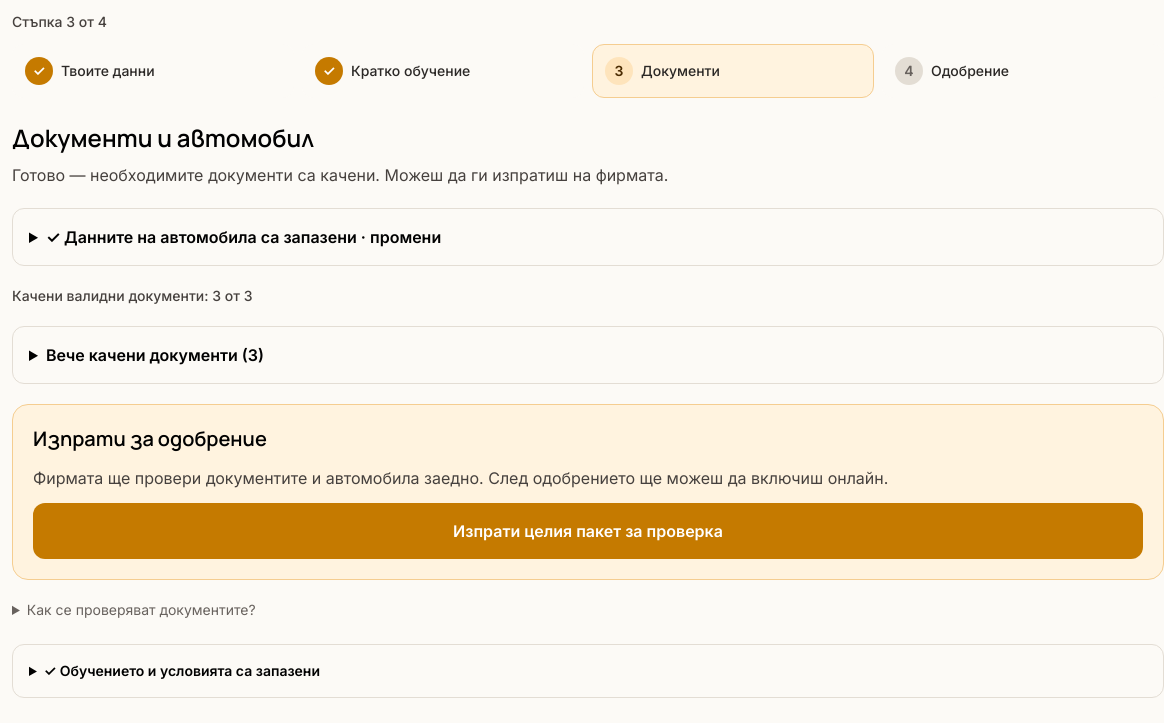
Test case: submits a complete package once and shows waiting instead of editable tasks after submission
Click the button "Изпрати целия пакет за проверка".
click(588, 531)  # box [33,503,1143,559]
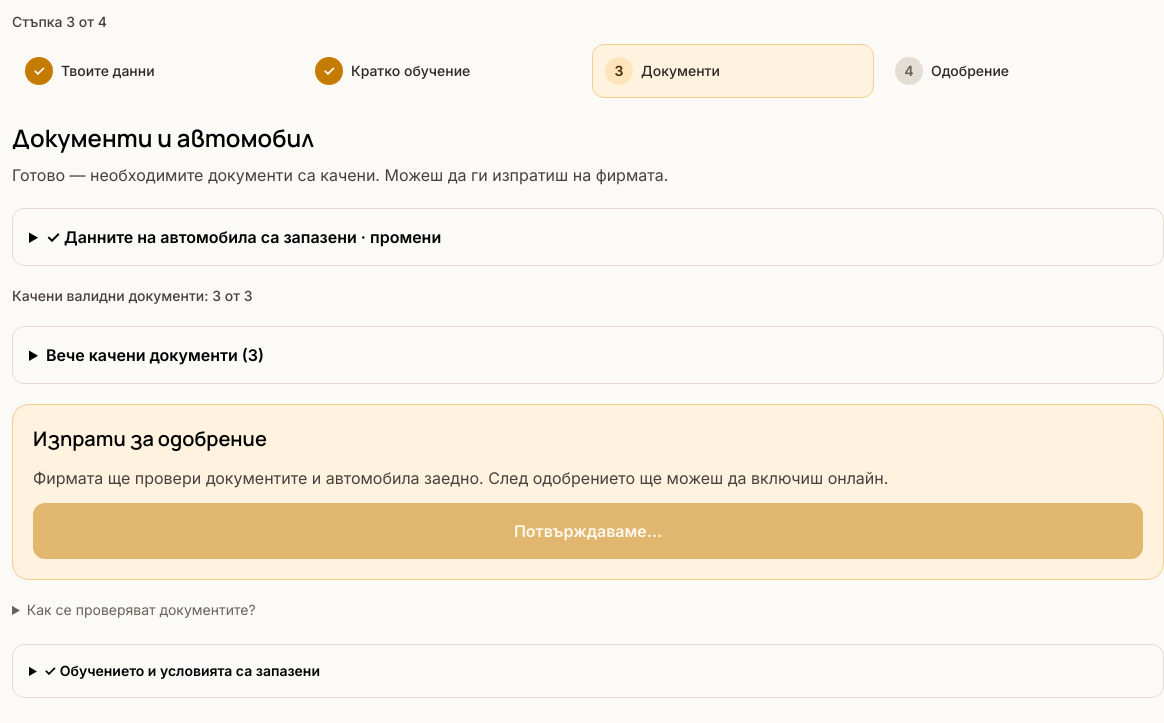
Click the button named "Изпрати целия пакет за проверка".
click(588, 531)  # box [33,503,1143,559]
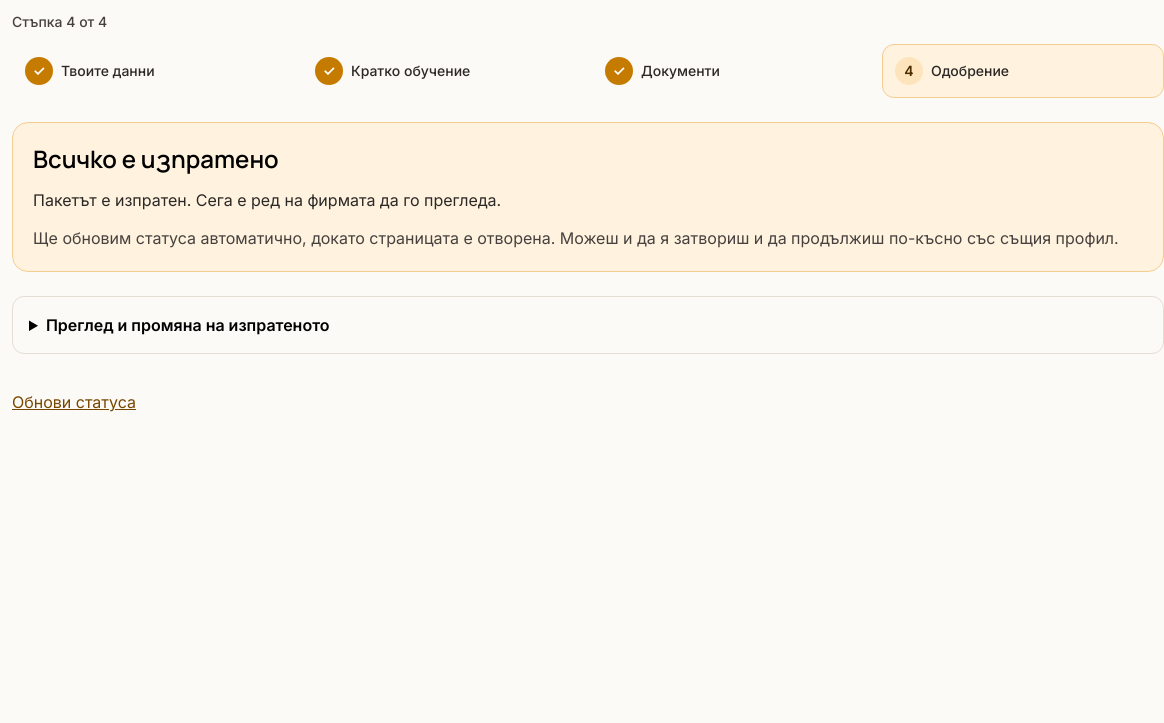
Expected: the button "Изпрати целия пакет за проверка" is not shown
Now the heading "Всичко е изпратено" is shown, box [33,142,279,175]
